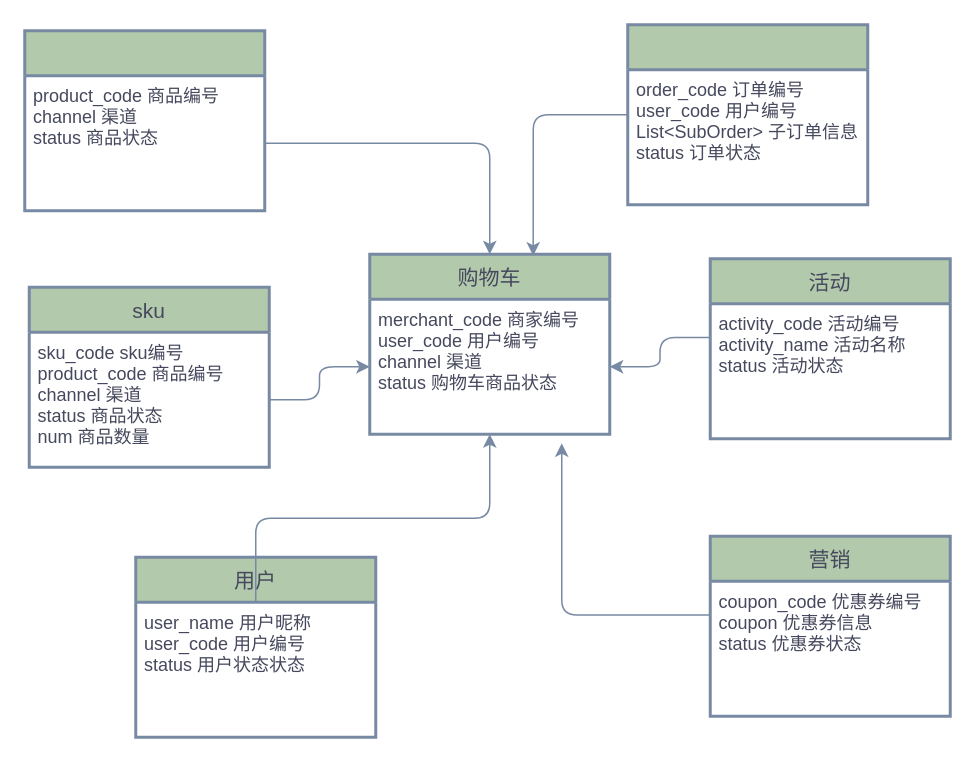
Some shapes in this 975 by 762 pixel diagram are drawn without their labels. Each missing label, with the box of its shape:
商品: (22, 28, 266, 212)
订单: (626, 22, 868, 206)
